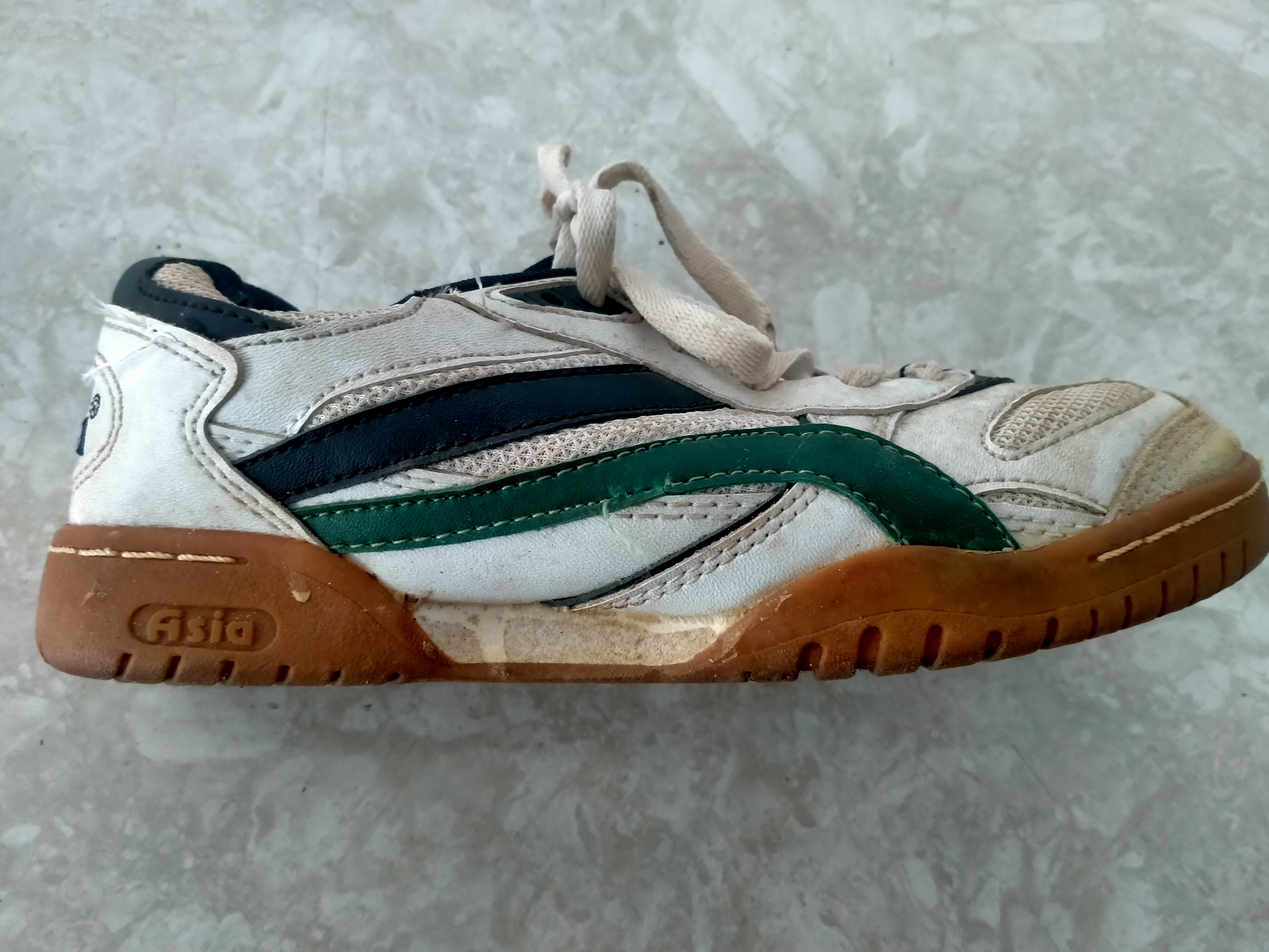broken: (595, 470, 697, 511), (126, 318, 180, 348)
